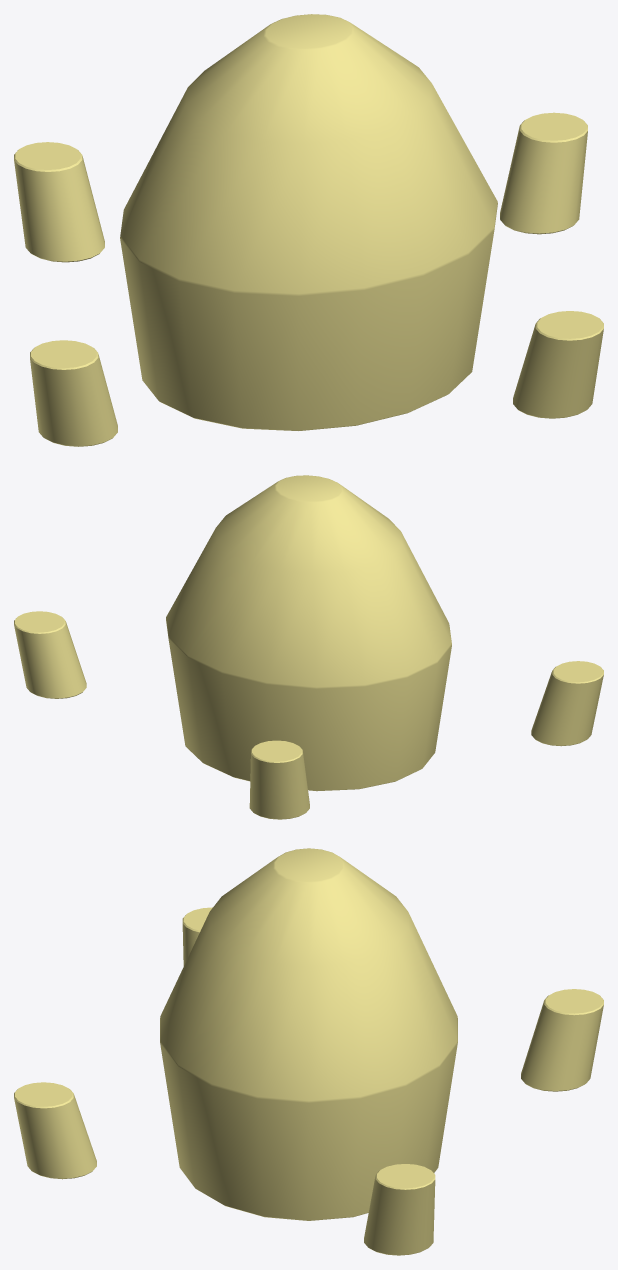
File: IT_sulfur_lump.fbx
3 views of the same model, one above another, from view 1: azimuth 30°, elevation 25°; view 2: azimuth 150°, elevation 25°; view 3: azimuth 270°, elevation 25° (orthographic). The views are drawn at different scales.
Visible parts, largest first — view 1: IT_sulfur_lump; view 2: IT_sulfur_lump; view 3: IT_sulfur_lump.
Part boxes in pixels (x1,y1,x2,y2): IT_sulfur_lump: (14, 14, 603, 446); IT_sulfur_lump: (14, 475, 603, 819); IT_sulfur_lump: (14, 848, 603, 1255).
Bounding box in the file's own units: 0.661 × 0.32 × 0.5849.
